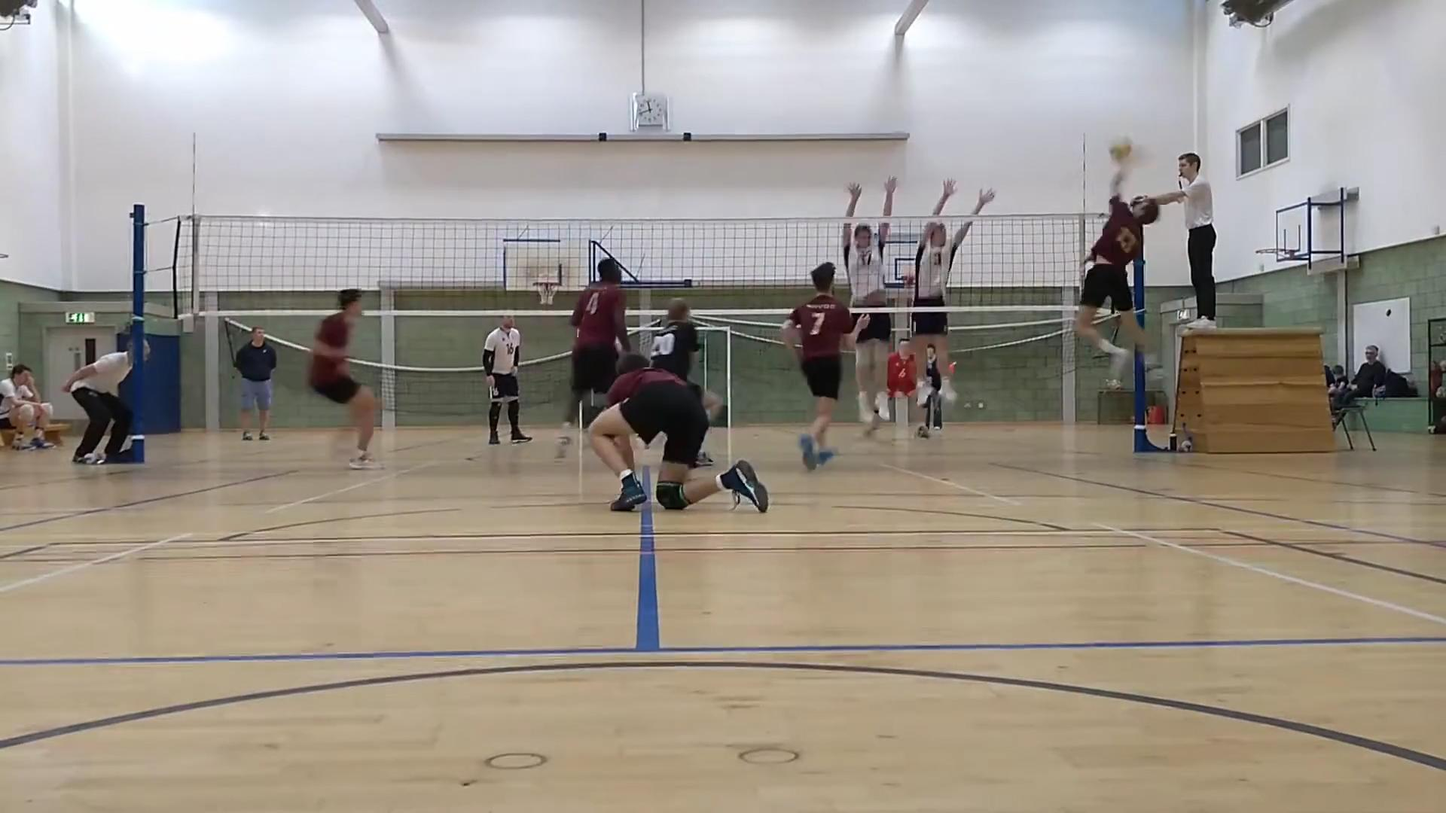attacco: (1071, 136, 1173, 394)
muro: (910, 176, 1001, 414)
